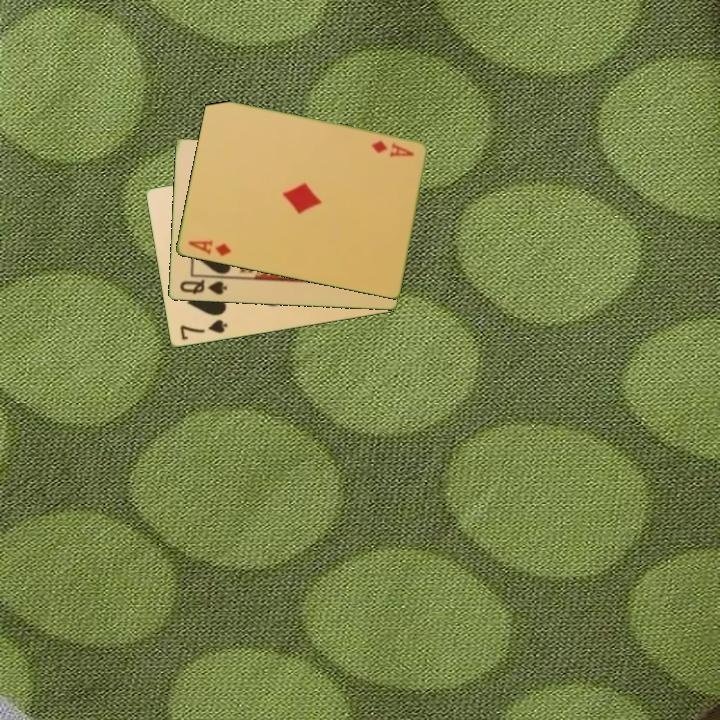7s: (176, 316, 230, 343)
Ad: (367, 137, 417, 161), (184, 237, 234, 259)
Qs: (176, 276, 230, 298)
